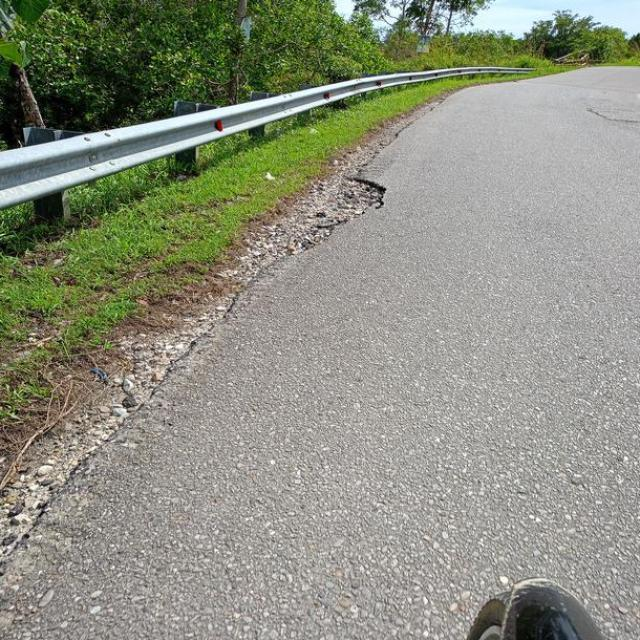Pinggir: (0, 149, 403, 612)
